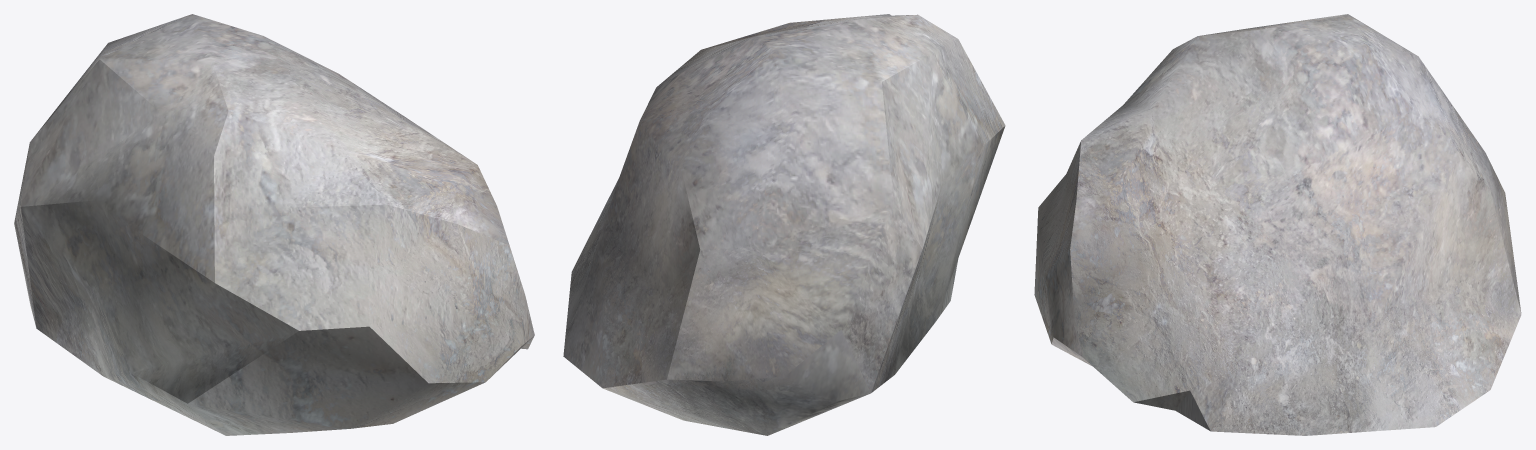
Rendered from rock_00B_lp2_2k.fbx.
The picture shows the model from 3 angles, left to right: view 1: azimuth 30°, elevation 25°; view 2: azimuth 150°, elevation 25°; view 3: azimuth 270°, elevation 25°; orthographic projection. The views are drawn at different scales.
Parts seen in each view (by area): view 1: rock_00B_lp2_2k; view 2: rock_00B_lp2_2k; view 3: rock_00B_lp2_2k.
Part boxes in pixels (<box>): rock_00B_lp2_2k: <box>14,14,534,435</box>; rock_00B_lp2_2k: <box>563,14,1005,435</box>; rock_00B_lp2_2k: <box>1034,14,1521,435</box>.
Bounding box in the file's own units: 235 × 207 × 265.
